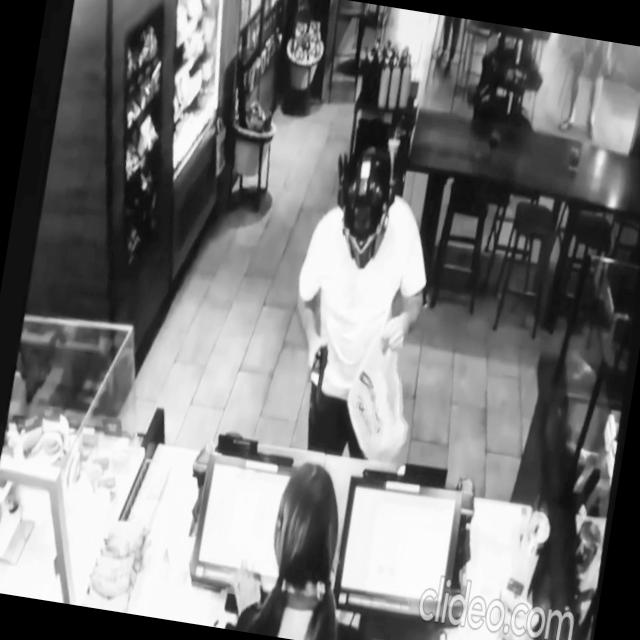gun: (305, 334, 333, 416)
person: (221, 449, 396, 640), (553, 36, 619, 146), (430, 15, 466, 83)
person with a gun: (272, 132, 447, 466)
